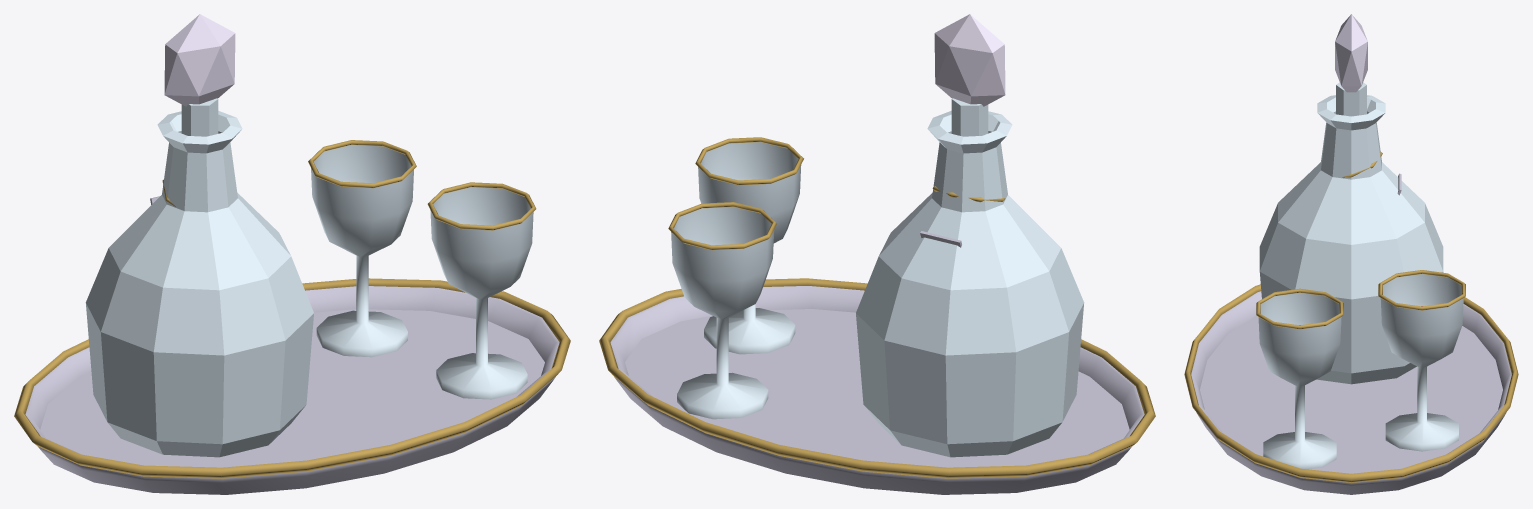
The model's file is decanter_set.glb.
3 renders of one model, left to right at view 1: azimuth 30°, elevation 25°; view 2: azimuth 150°, elevation 25°; view 3: azimuth 270°, elevation 25°, orthographic. The views are drawn at different scales.
Visible parts, largest first — view 1: decanter_set; view 2: decanter_set; view 3: decanter_set.
Part boxes in pixels (x1=…): decanter_set: x1=14, y1=14, x2=570, y2=494; decanter_set: x1=599, y1=14, x2=1155, y2=494; decanter_set: x1=1184, y1=14, x2=1518, y2=494.
Size of what is drawn, in the model's own units: 0.42 by 0.32 by 0.28.
